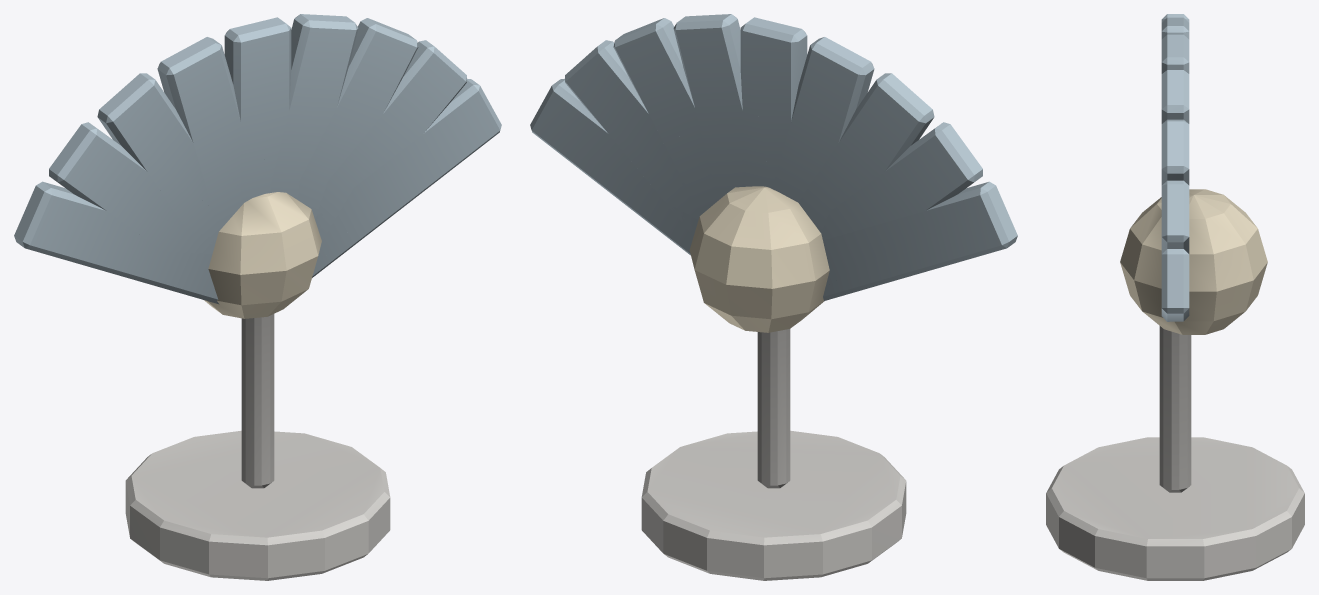
Rendered from furn_shell_lamp__sky.glb.
3 views of the same model, side by side, from view 1: azimuth 30°, elevation 25°; view 2: azimuth 150°, elevation 25°; view 3: azimuth 270°, elevation 25° (orthographic). The views are drawn at different scales.
Bounding box in the file's own units: 0.5789 × 0.578 × 0.28.
